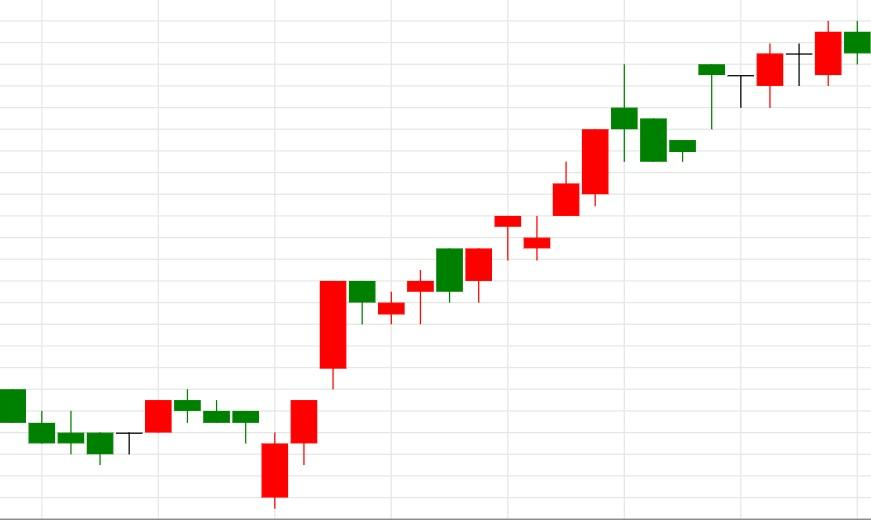three_white_soldiers_rise: (145, 280, 347, 510)
